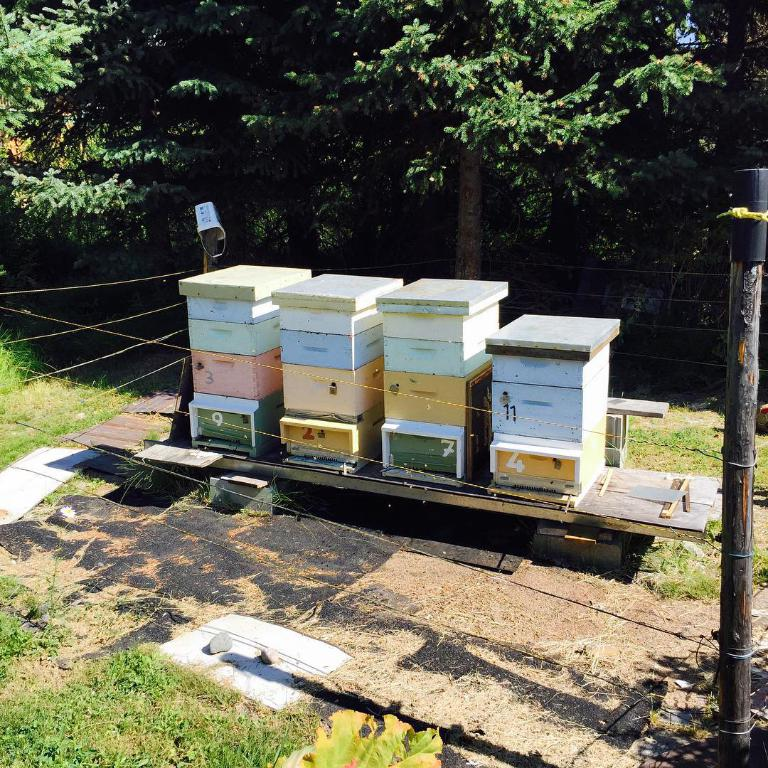Tree: (0, 0, 768, 375)
